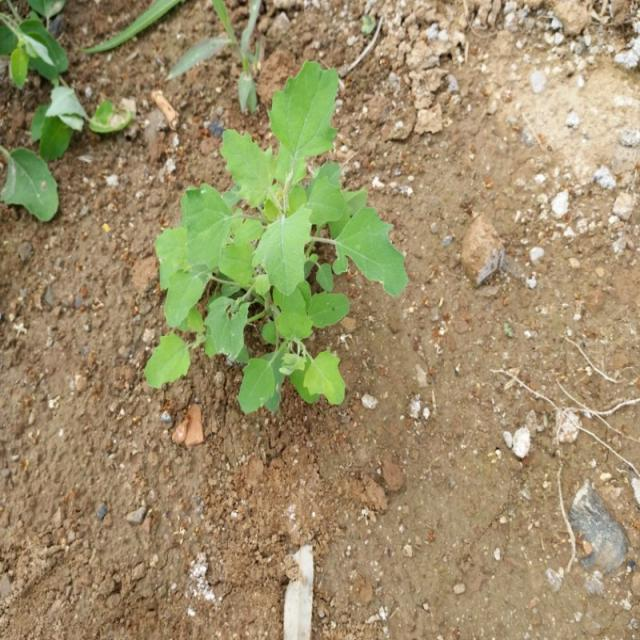ca: (160, 59, 409, 415)
